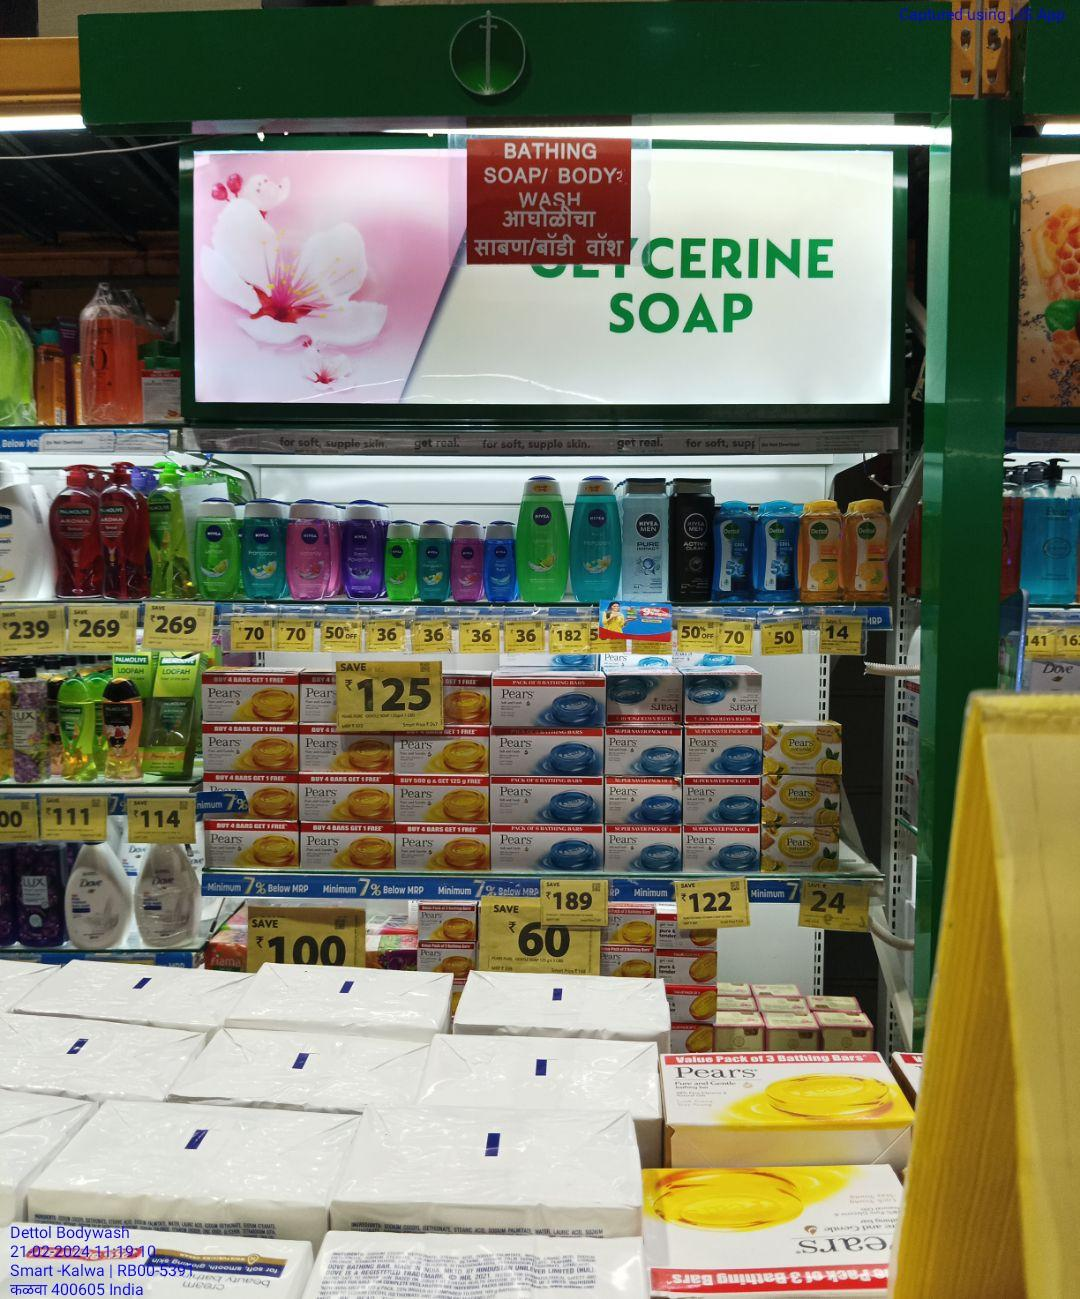Dettol_Bodywash_Cool: (754, 501, 801, 599), (715, 500, 755, 599)
Dettol_Bodywash_Refresh: (843, 497, 890, 602), (801, 498, 844, 602)
Nivea_Shower_Gel_Frangipani_and_Oil_250ML: (569, 474, 621, 602), (240, 495, 285, 600)
Nivea_Shower_Gel_Fresh_Powerfruit_250ML: (340, 497, 383, 599)
Nivea_Shower_Gel_Lemon_and_Oil_250ML: (516, 474, 569, 600), (194, 495, 240, 599)
Nivea_Shower_Gel_Waterlily_and_Oil_250ML: (285, 496, 331, 599)
